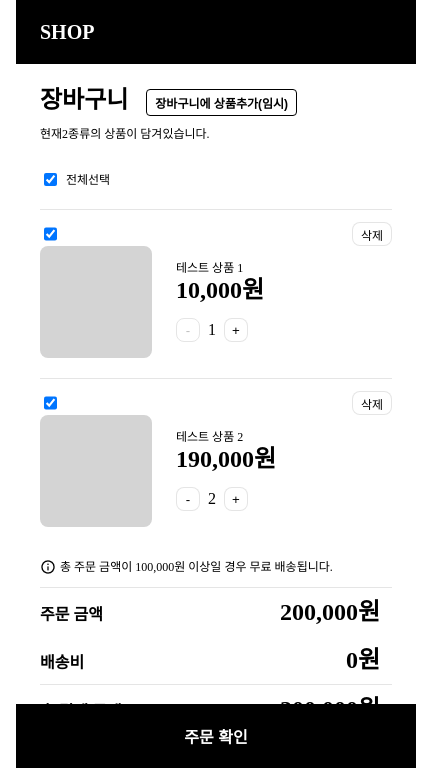
Scenario: CartPage › 빈 전체 선택 버튼을 누르면 상품 목록의 체크박스가 전부 체크된다
Expected: the text "테스트 상품 1" is shown, [176,262,243,274]
Click the checkbox labelled "전체선택" at (50, 180), box [44,173,57,186]
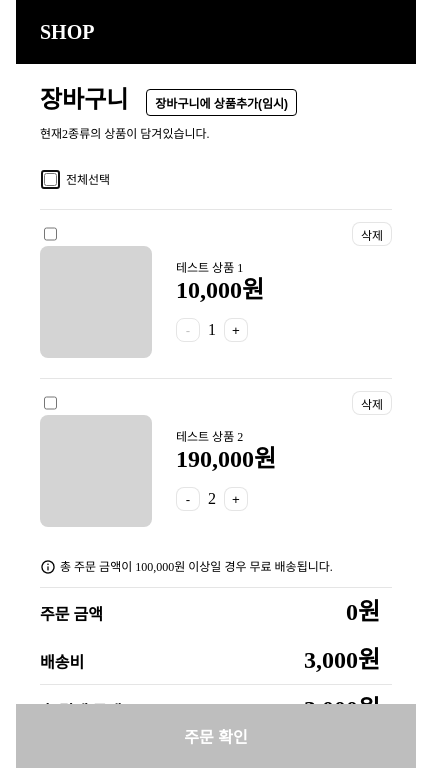
Click the checkbox labelled "전체선택" at (50, 180), box [44,173,57,186]
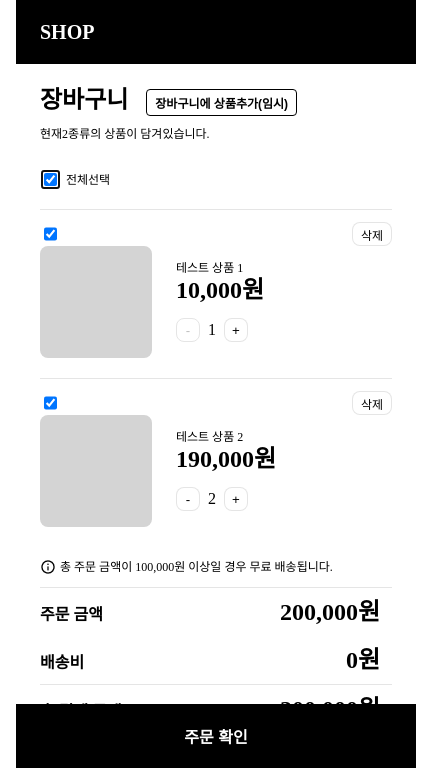
Result: the checkbox labelled "전체선택" is checked at [44,173,57,186]
Result: the 2nd checkbox is checked at [44,225,57,243]
Result: the 3rd checkbox is checked at [44,394,57,412]
